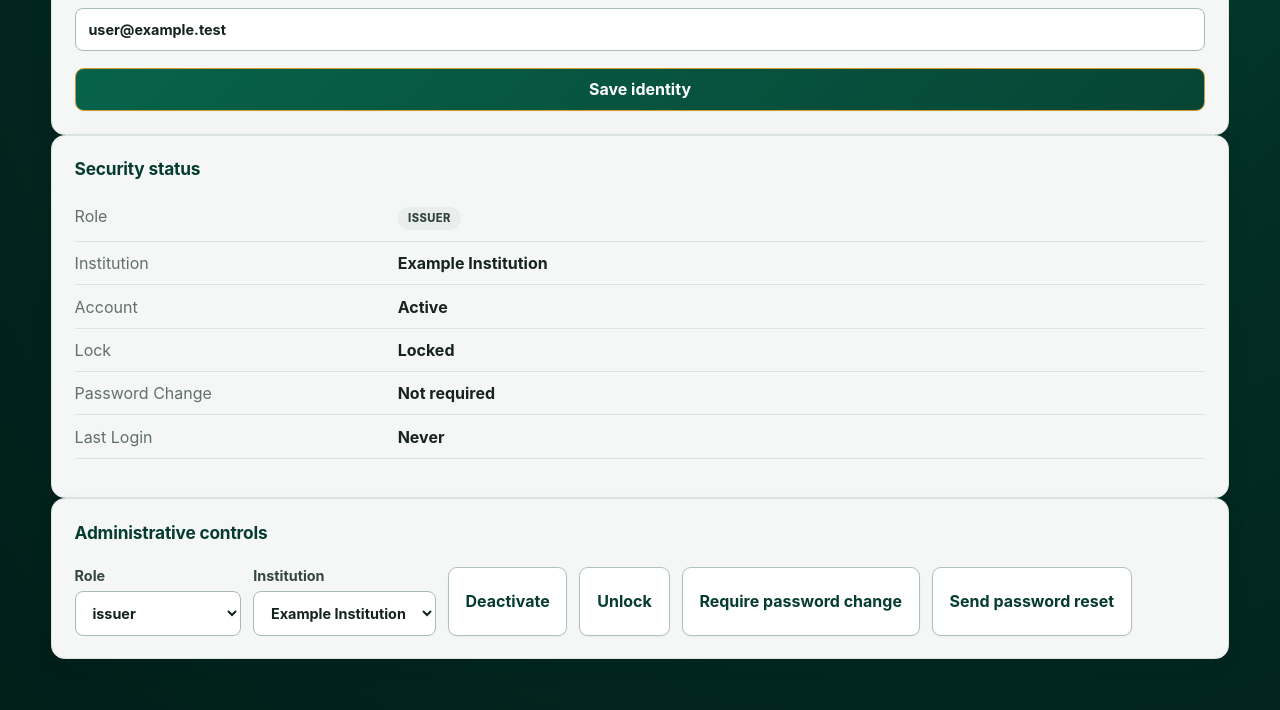
Test: user management detail › displays safe backend authorization errors
(page scrolled)
Click the button "Unlock" at (625, 601), box [580,567,670,636]
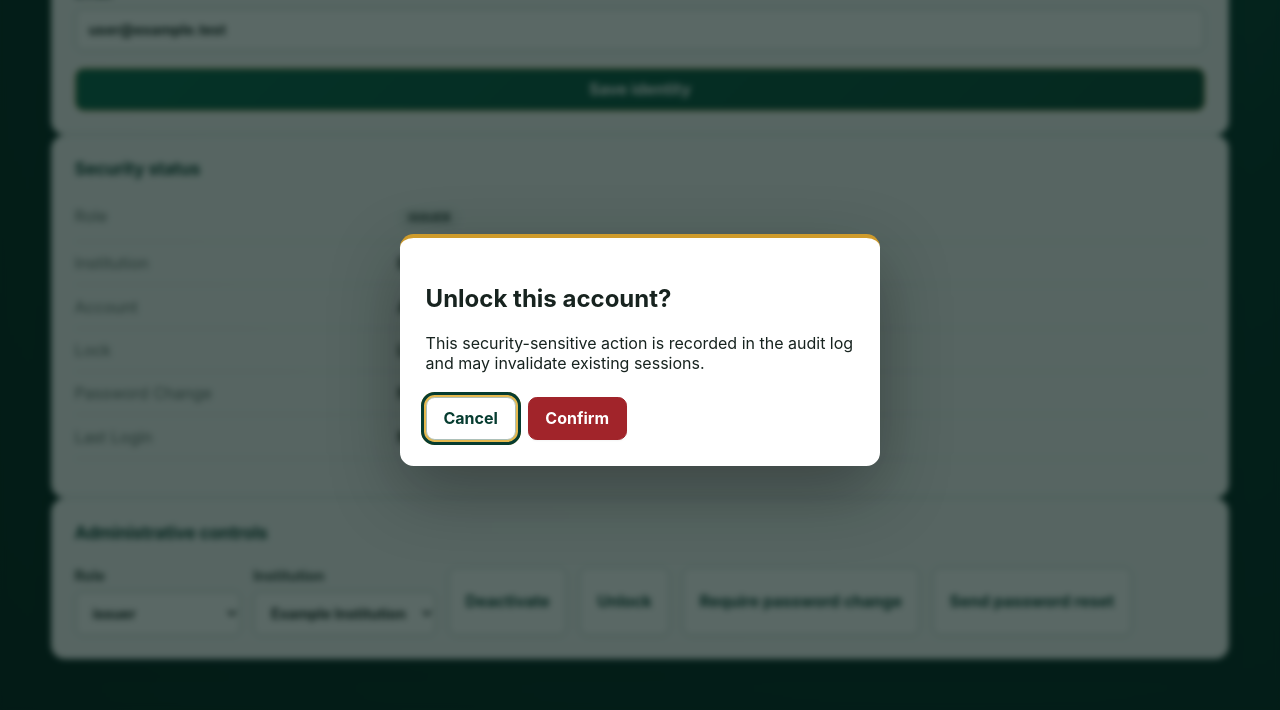
Click the button "Confirm" at (577, 418), box [528,396,627,440]
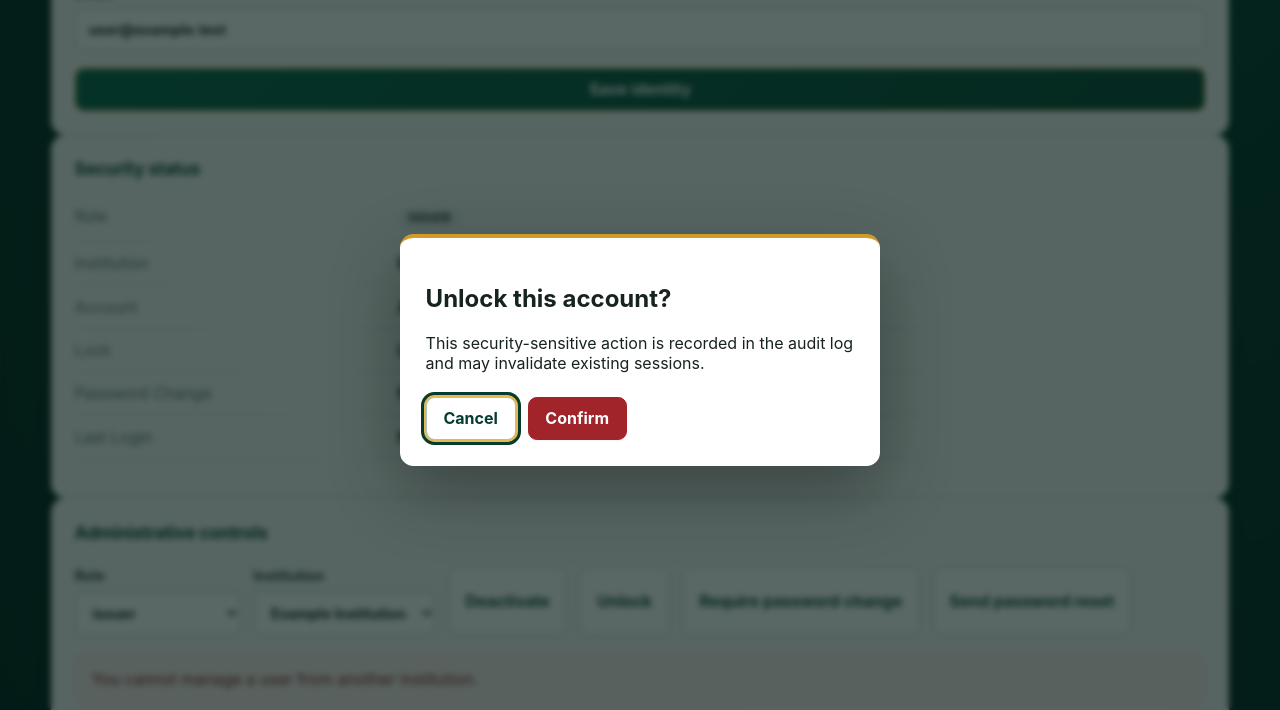
Expected: the message shows "cannot manage", [92,669,478,689]
